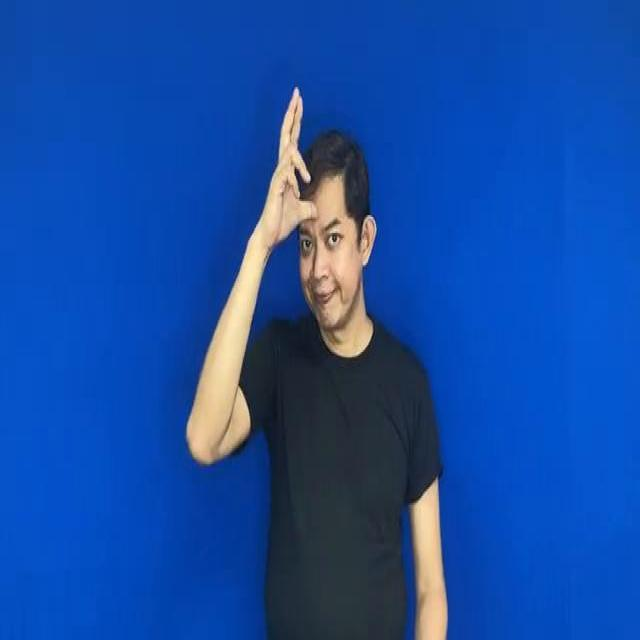chicken: (265, 82, 322, 245)
